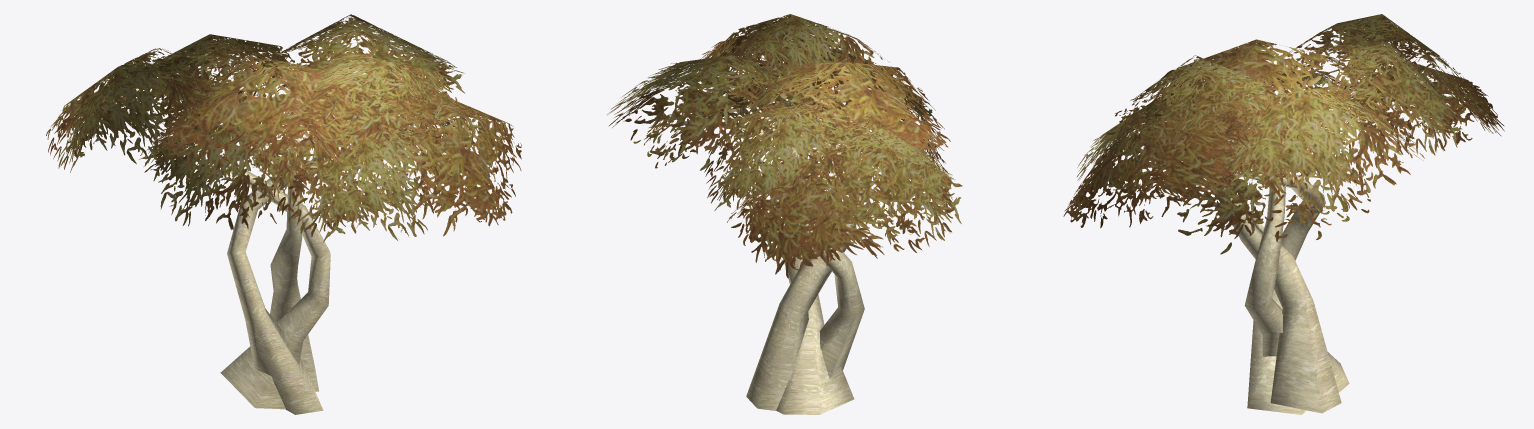
The model's file is decd_windswept_a1_l1.fbx.
3 renders of one model, left to right at view 1: azimuth 30°, elevation 25°; view 2: azimuth 150°, elevation 25°; view 3: azimuth 270°, elevation 25°, orthographic. The views are drawn at different scales.
Visible parts, largest first — view 1: mesh_node; view 2: mesh_node; view 3: mesh_node.
Boxes of the visible parts, <box> form: mesh_node: <box>46,14,521,414</box>; mesh_node: <box>607,14,962,414</box>; mesh_node: <box>1063,14,1504,414</box>.
Size of the model in its own units: 4.86 by 3.92 by 4.88.
